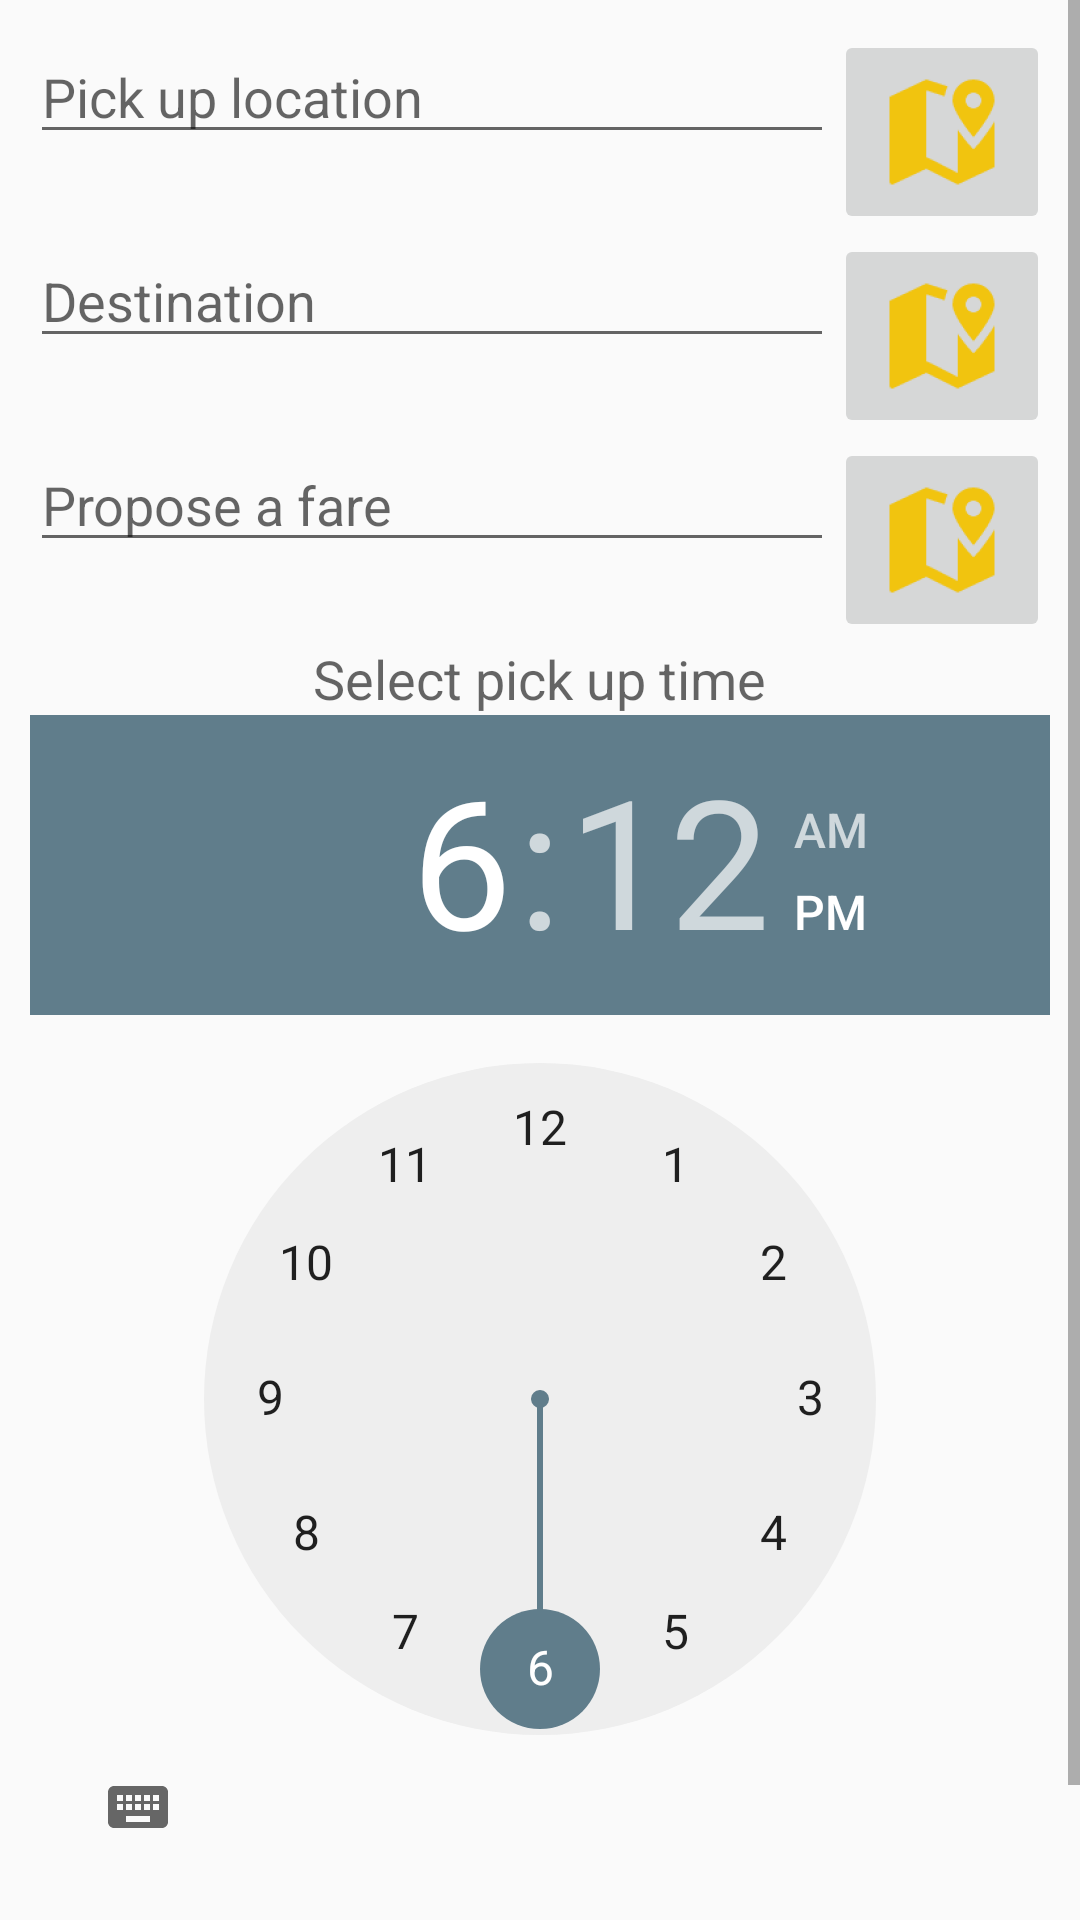

Point at icon controls on the screen. Image size 1080×1920, points as (x,y).
mapmarker: (942,132), (942,336), (942,540)
